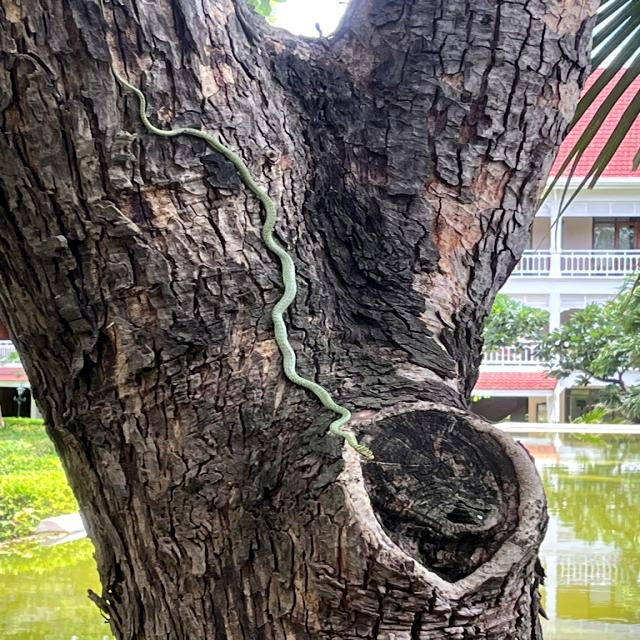Chrysopelea ornata: (111, 64, 373, 459)
